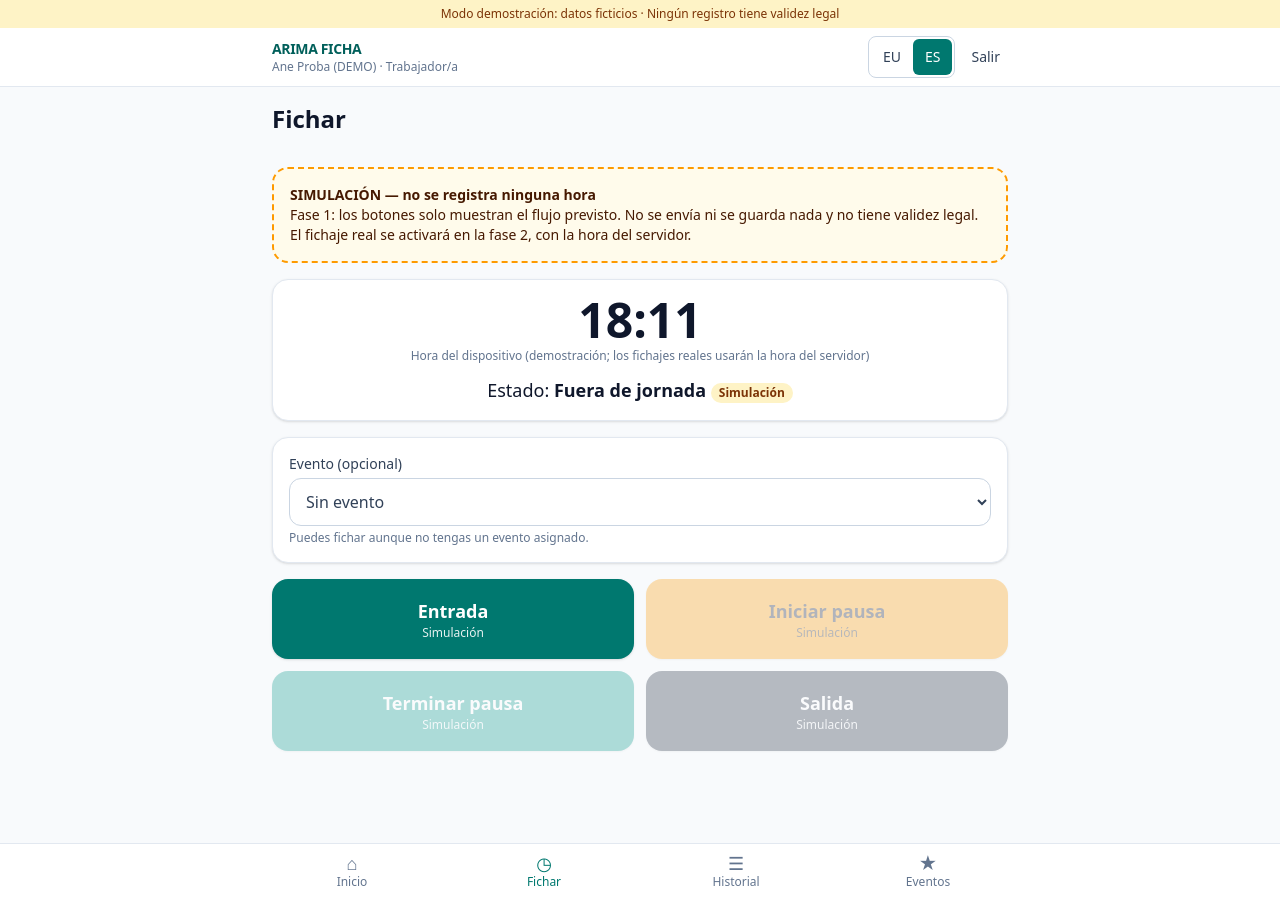
Scenario: fichaje simulado › muestra el aviso de simulación y sigue la máquina de estados
The width and height of the screenshot is (1280, 900).
Expected: the message with test id "simulation-notice" shows "SIMULACIÓN", [290, 185, 596, 204]
Expected: the button "Salida Simulación" is disabled, [646, 671, 1008, 751]
Step 1. Click the button "Entrada Simulación" → (453, 619), box [272, 579, 634, 659]
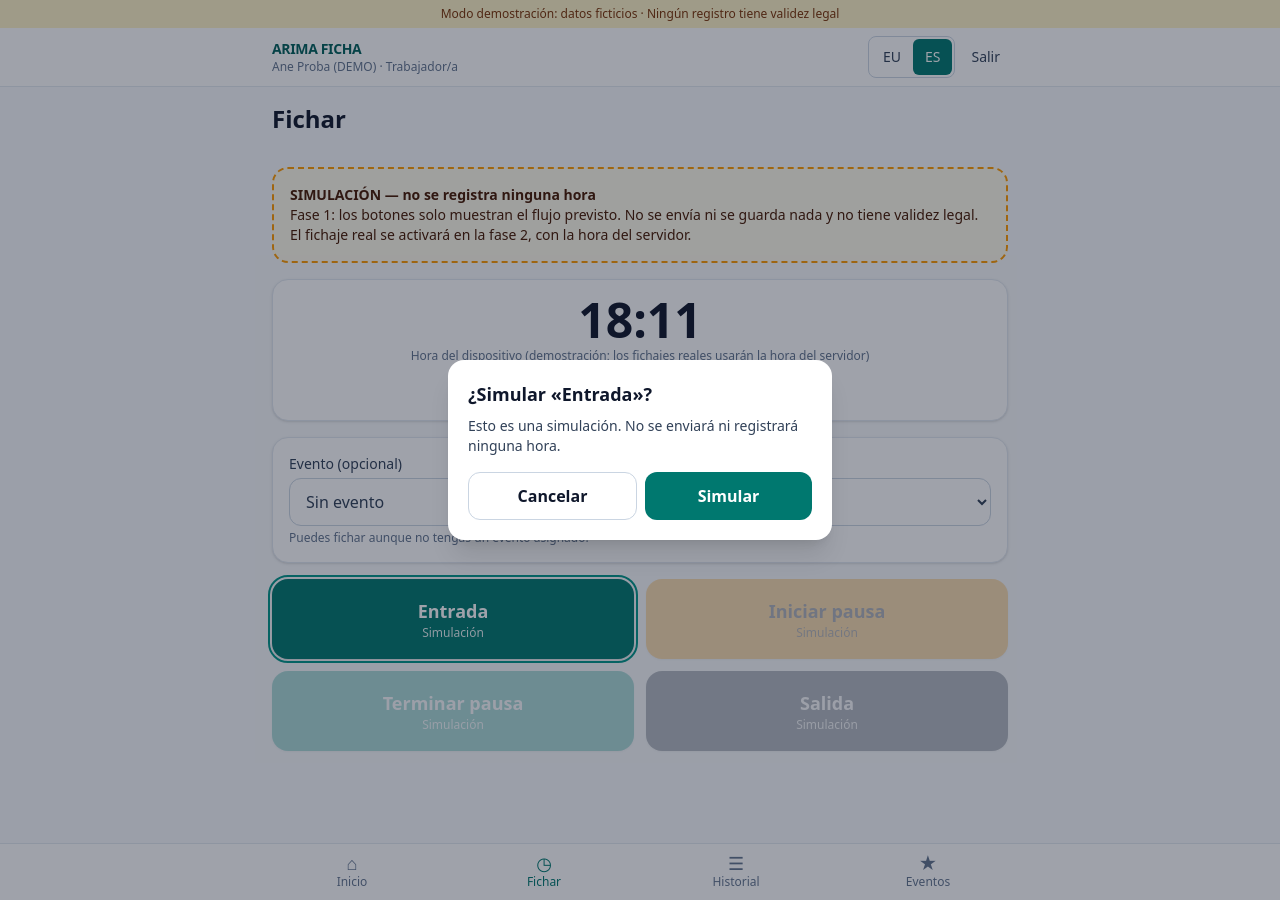
Expected: the dialog shows "No se enviará ni registrará ninguna hora", [468, 416, 798, 455]
Step 2. Click the button "Simular" → (728, 496), box [645, 472, 812, 520]
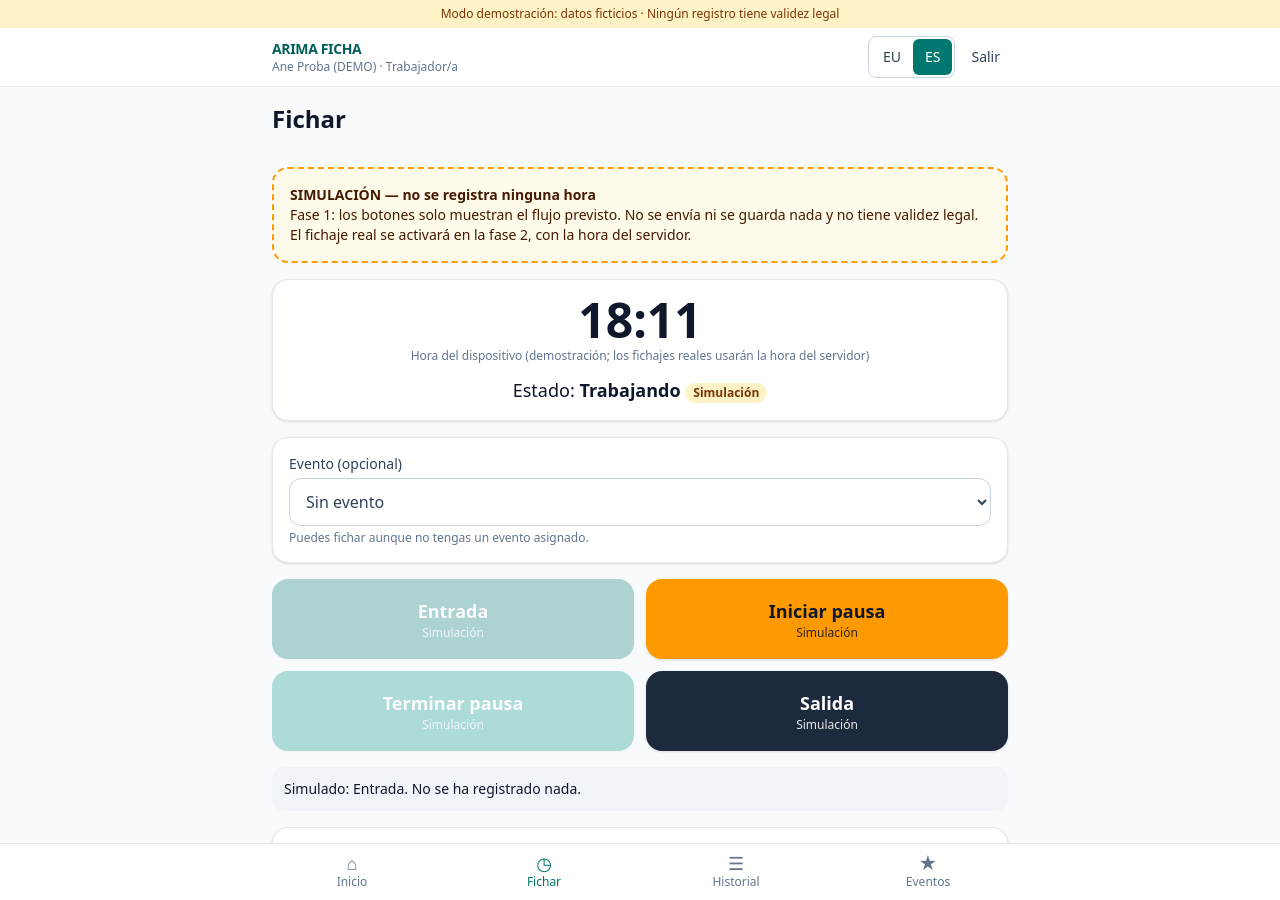
Expected: the text with test id "clock-status" reads "Trabajando", [579, 378, 681, 402]
Expected: the message "Simulado: Entrada. No se ha registrado nada." is shown, [272, 767, 1008, 811]
Expected: the button "Entrada Simulación" is disabled, [272, 579, 634, 659]
